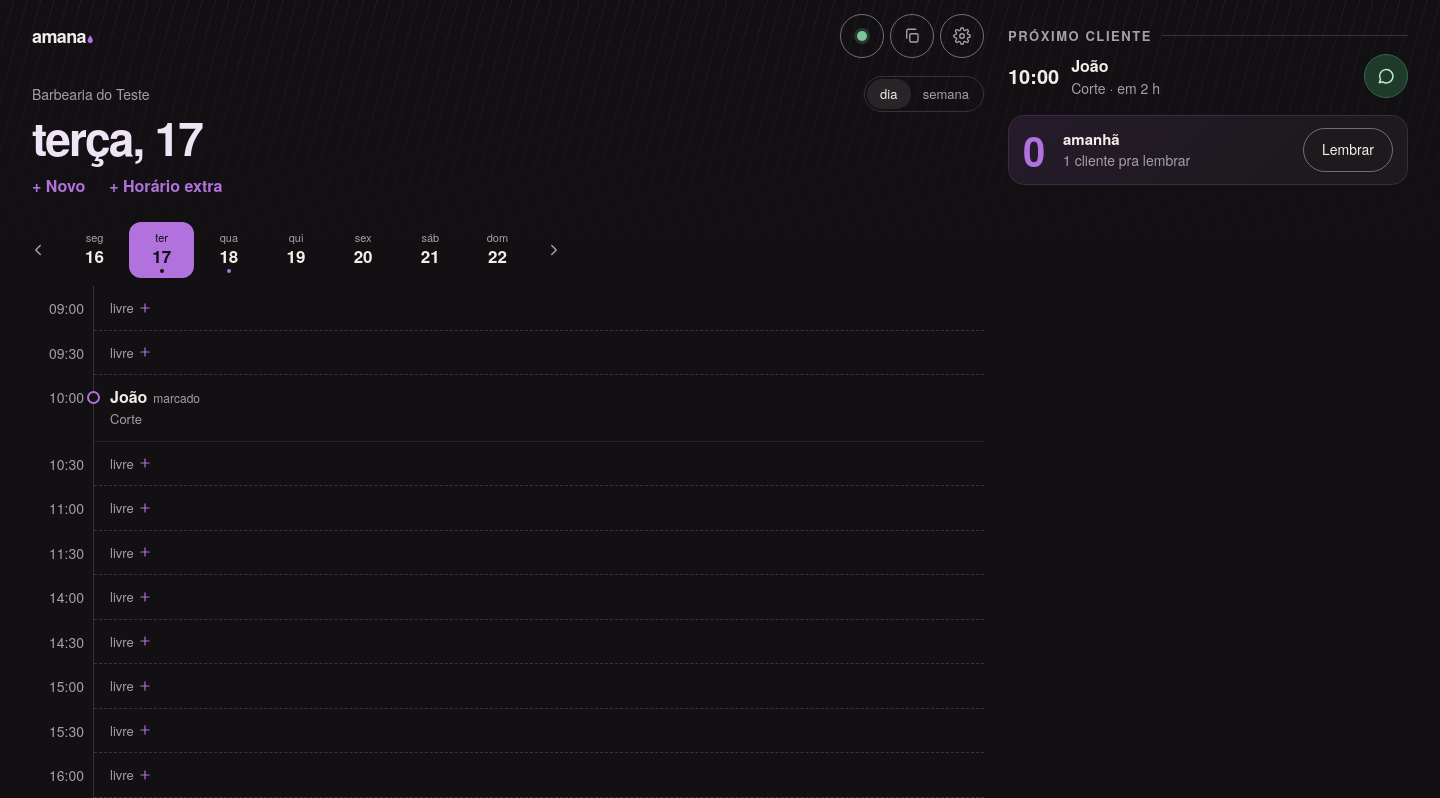
it: Agenda › na tela larga, "Fechar painel" volta ao resumo e devolve o foco ao horário
Click the button "10:00 João marcado Corte": [508, 408] box [32,375,984,442]
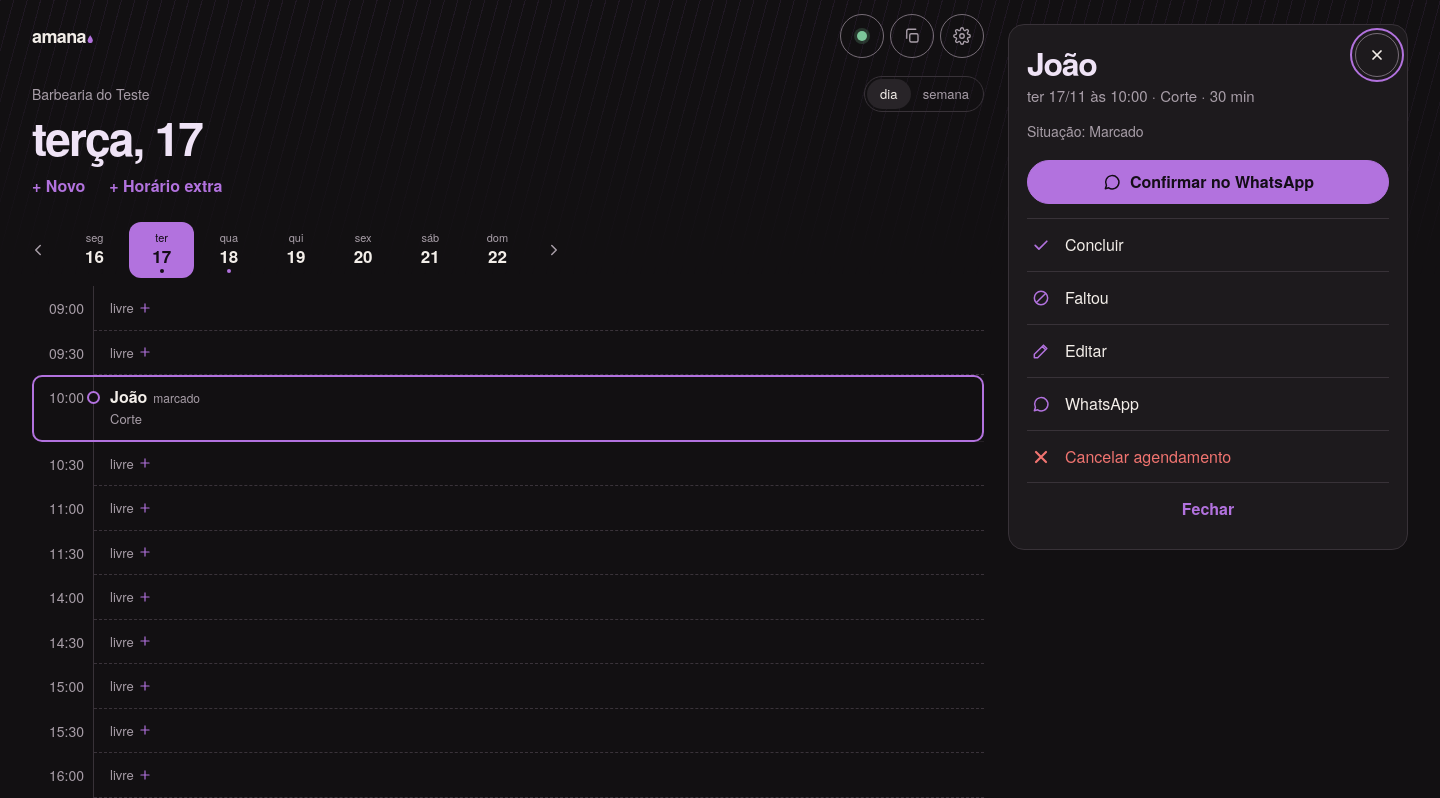
Click the button named "Fechar painel": [1377, 55] box [1355,33,1399,77]
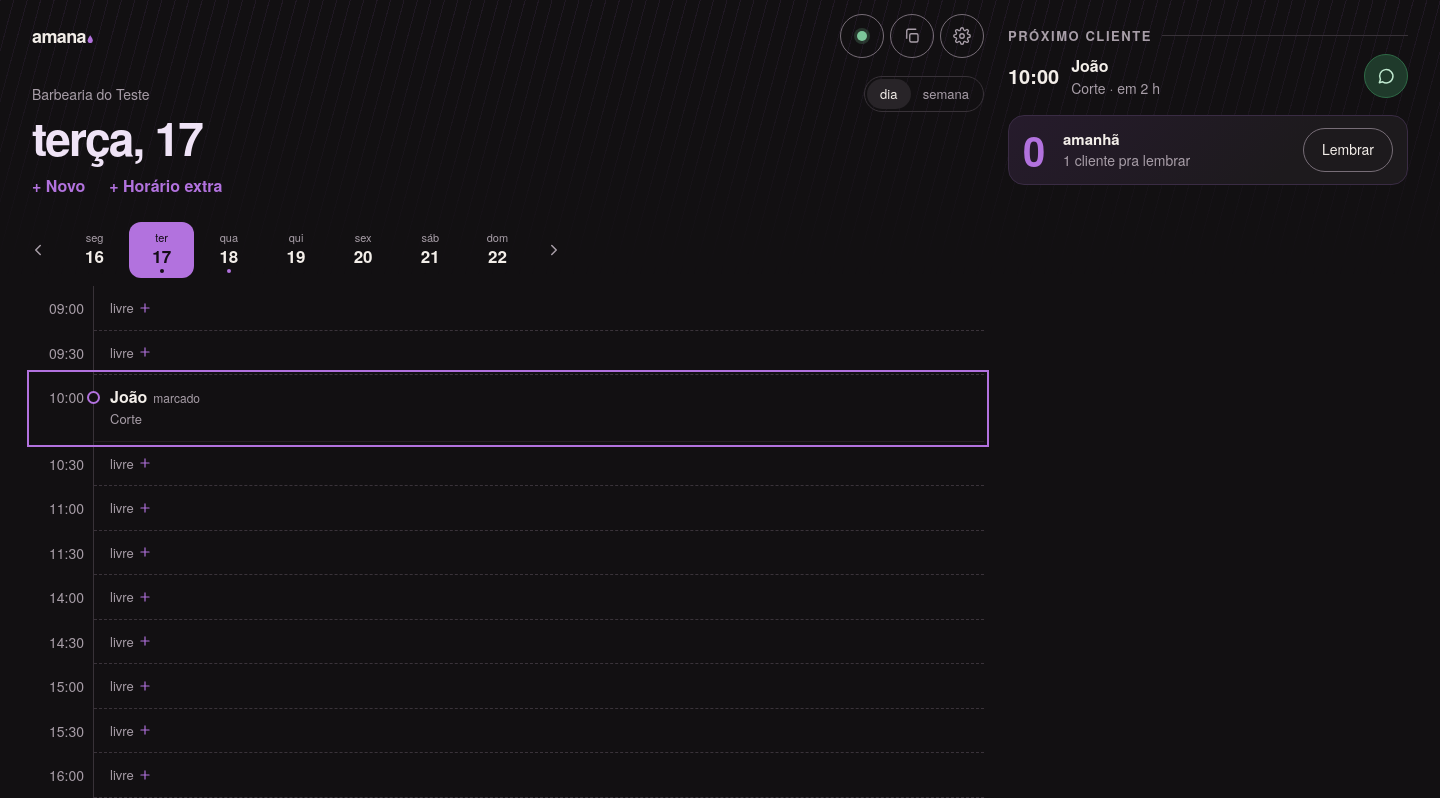
Expected: the element named "Resumo" is shown, [1008,24,1408,185]
